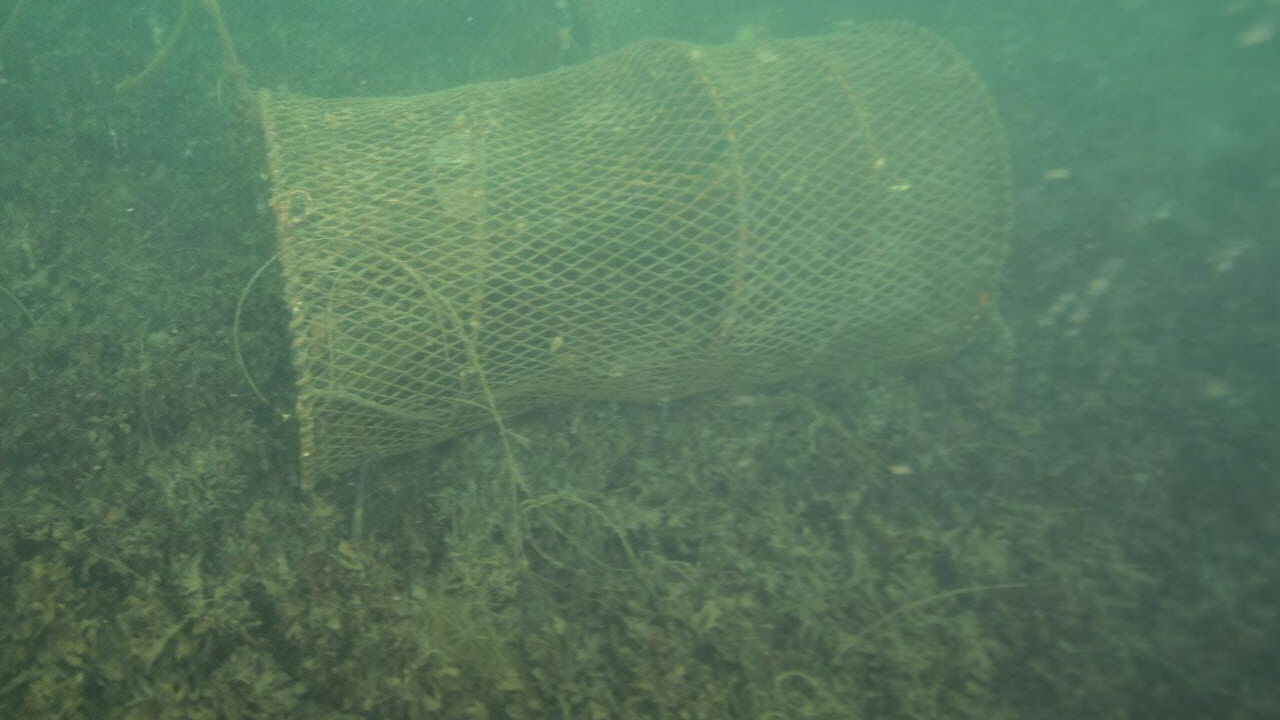spring fish trap: (250, 12, 1019, 495)
